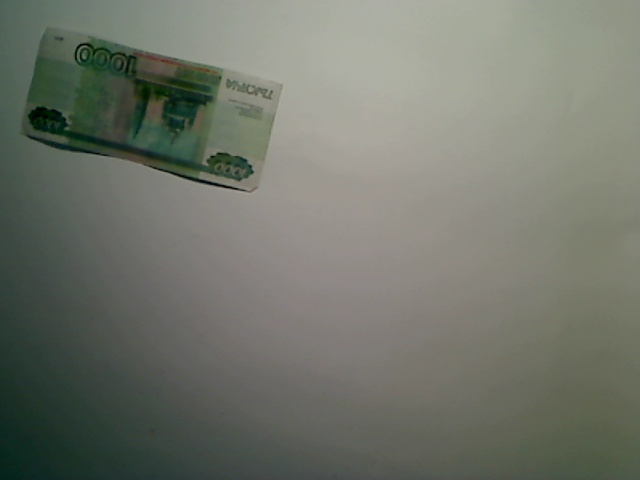banknotes: (19, 19, 286, 197)
